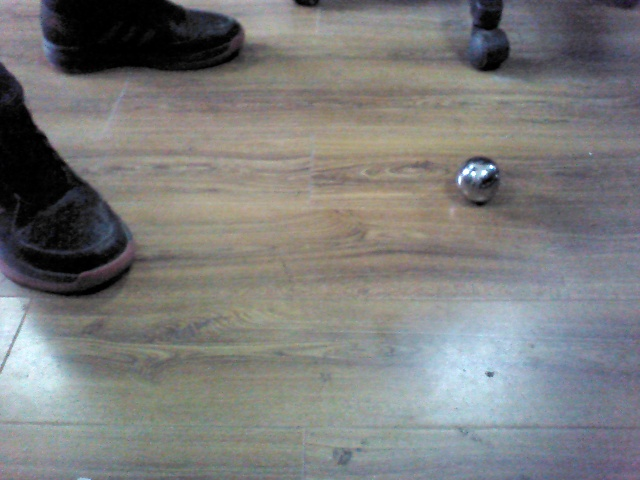ball: (246, 174, 379, 306)
